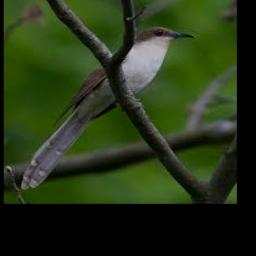Cuckoo: (20, 27, 195, 189)
